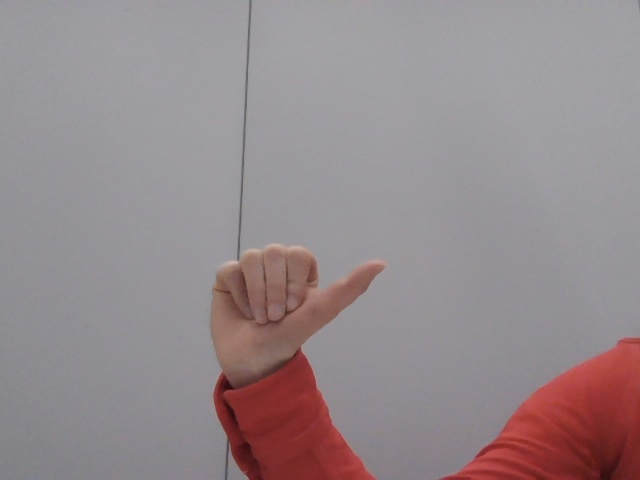left: (186, 228, 394, 400)
